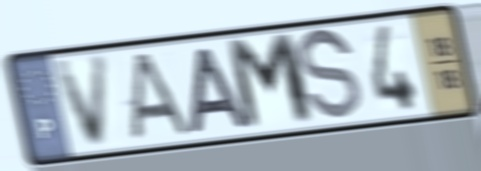4: (371, 21, 422, 115)
A: (125, 49, 196, 144), (187, 44, 255, 138)
M: (222, 29, 320, 135)
S: (296, 24, 365, 127)
V: (50, 51, 112, 153)
